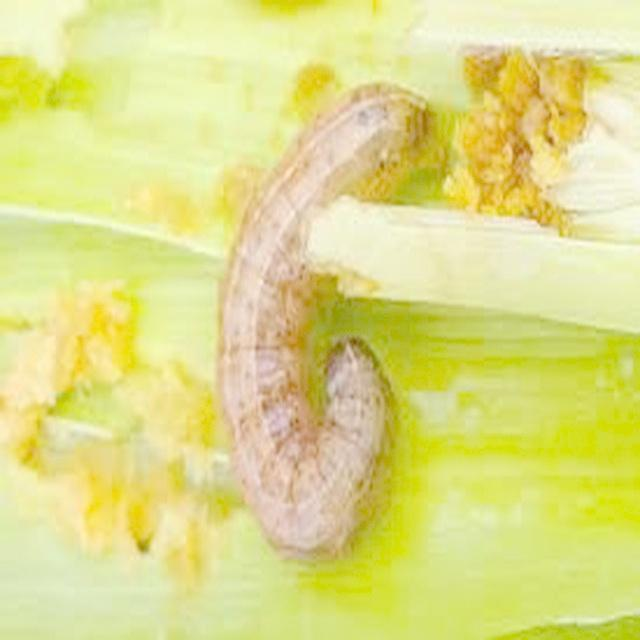gusano_cogollero: (210, 77, 438, 565)
